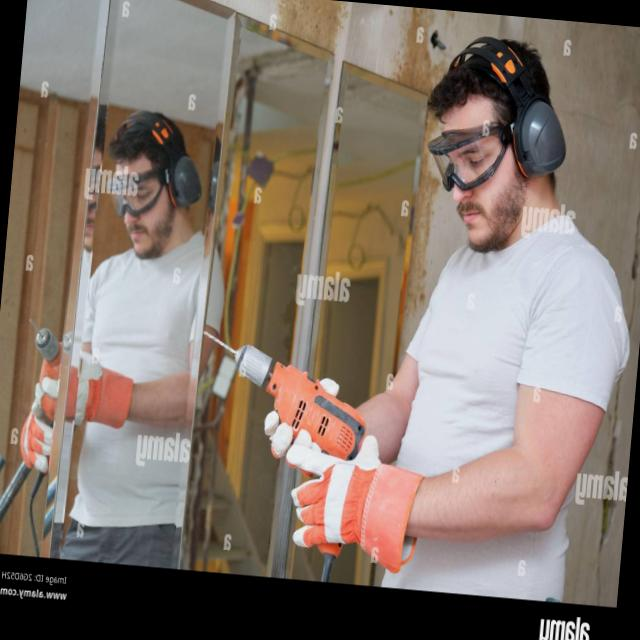goggles: (420, 110, 507, 198), (105, 160, 168, 221)
no-helmet: (418, 33, 560, 110), (115, 100, 189, 150)
no-vest: (381, 203, 624, 603), (67, 231, 211, 536)
